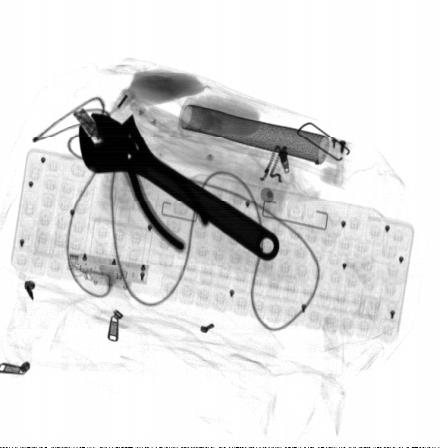Pliers: (92, 111, 214, 253)
Wrench: (78, 111, 281, 262)
